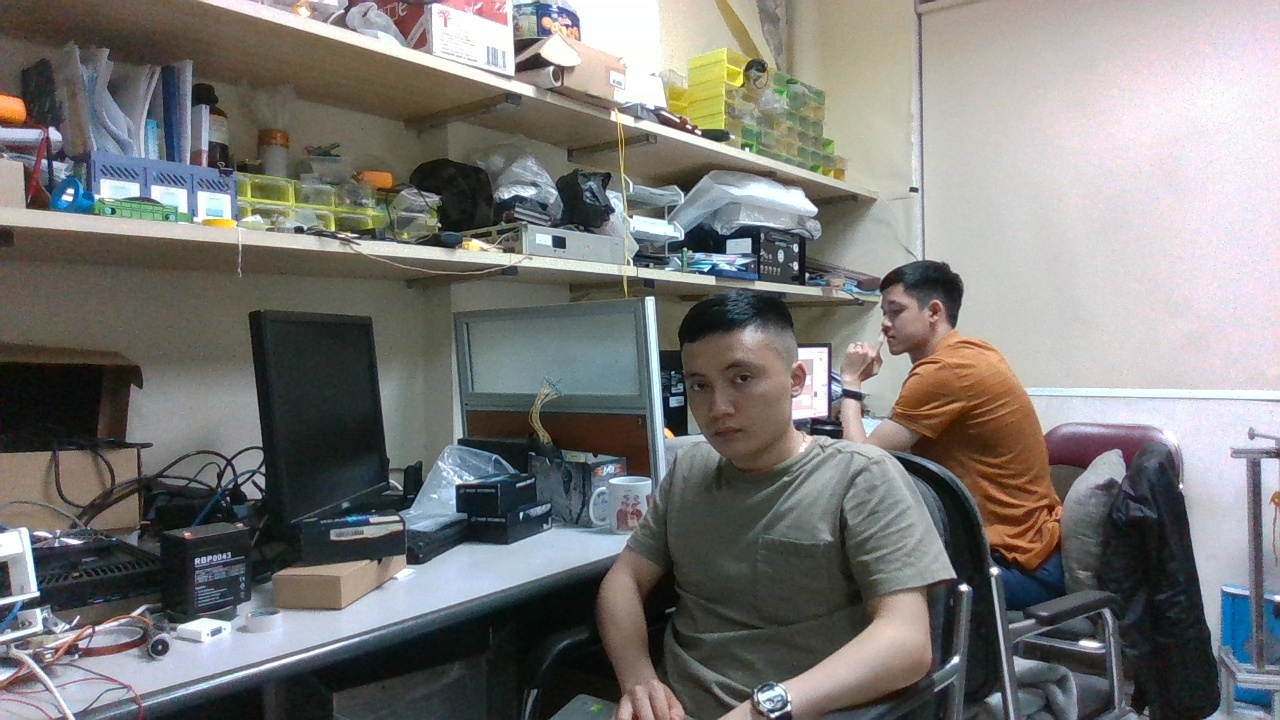person: (547, 285, 960, 720), (846, 249, 1067, 611)
